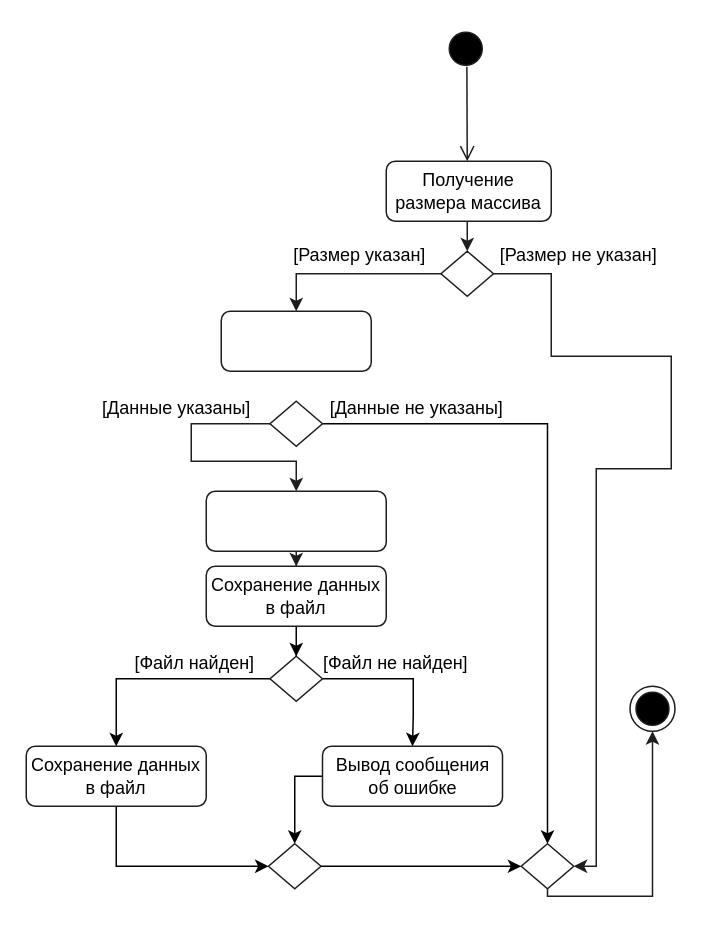
Some shapes in this 710 by 935 pixel diagram are drawn without their labels. The centre of each missing label's shape, as x and y in pixels:
"Заполнение массива данных" belongs at pixel 295 340.
"Сортировка данных по возрастанию" belongs at pixel 295 520.
